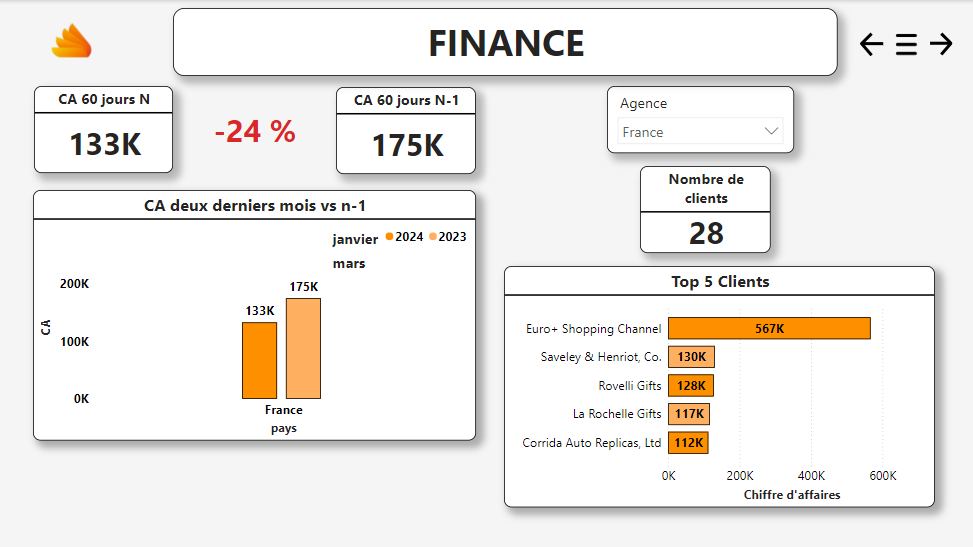

What the dashboard file says about the page in this screenshot:
{"tool":"powerbi","page":{"name":"FINANCE","canvas":[1280,720],"ordinal":3},"visuals":[{"type":"clusteredColumnChart","title":"CA deux derniers mois vs n-1","fields":{"Category":["CA M2 vs n-1.pays"],"Y":["CA M2 vs n-1.Total_CA","CA M2 vs n-1.Total_CA_Prec"]},"box":[43.2,249.1,580.3,328.3],"z":0},{"type":"slicer","fields":{"Values":["CA M2 vs n-1.pays"]},"box":[794.9,112.3,244.8,87.8],"z":1000},{"type":"clusteredBarChart","title":"Top 5 Clients","fields":{"Category":["CA client global.customerName"],"Y":["CA client global.total_cmde"]},"box":[660.2,347.7,564.4,315.8],"z":2000},{"type":"card","title":"Nombre de clients","fields":{"Values":["0FIN CA client global.customerName"]},"box":[838.1,217.4,171.4,113.8],"z":3000},{"type":"actionButton","title":"Page suivante","box":[1202.4,37.4,43.2,40.3],"z":4000},{"type":"actionButton","title":"Page précendente","box":[1121.8,37.4,44.6,40.3],"z":5000},{"type":"actionButton","box":[1166.4,37.4,43.2,40.3],"z":6000},{"type":"multiRowCard","fields":{"Values":["0FIN CA M2 vs n-1.date_min2mois","0FIN CA M2 vs n-1.date_jour.Variation.Hiérarchie de dates.Mois"]},"box":[429.1,293.8,72,74.9],"z":7000},{"type":"card","title":"CA 60 jours N-1","fields":{"Values":["0FIN CA M2 vs n-1.Total_CA_Prec"]},"box":[439.9,113.9,183.3,113.9],"z":8000},{"type":"card","title":"CA 60 jours N","fields":{"Values":["0FIN CA M2 vs n-1.Total_CA"]},"box":[44.5,112.6,182,113.9],"z":9000},{"type":"card","fields":{"Values":["0FIN CA M2 vs n-1.différence avec Total_CA moins Total_CA_Prec % de différence avec Total_CA_Prec"]},"box":[250.6,122.4,167,93.6],"z":10000},{"type":"textbox","box":[226.1,10.1,869.8,89.3],"z":11000},{"type":"image","box":[44.6,10.1,103.7,89.3],"z":12000}]}

Visuals, with their boxes in screenshot pixels (x1, y1, x2, y2), scaled from the page's 1280x720 canvas onto the 973x547 screenshot:
"CA deux derniers mois vs n-1" clusteredColumnChart: 33/189/474/439
slicer - CA M2 vs n-1.pays: 604/85/790/152
"Top 5 Clients" clusteredBarChart: 502/264/931/504
"Nombre de clients" card: 637/165/767/252
"Page suivante" actionButton: 914/28/947/59
"Page précendente" actionButton: 853/28/887/59
actionButton: 887/28/919/59
multiRowCard - 0FIN CA M2 vs n-1.date_min2mois x 0FIN CA M2 vs n-1.date_jour.Variation.Hiérarchie de dates.Mois: 326/223/381/280
"CA 60 jours N-1" card: 334/87/474/173
"CA 60 jours N" card: 34/86/172/172
card - 0FIN CA M2 vs n-1.différence avec Total_CA moins Total_CA_Prec % de différence avec Total_CA_Prec: 190/93/317/164
textbox: 172/8/833/76
image: 34/8/113/76
